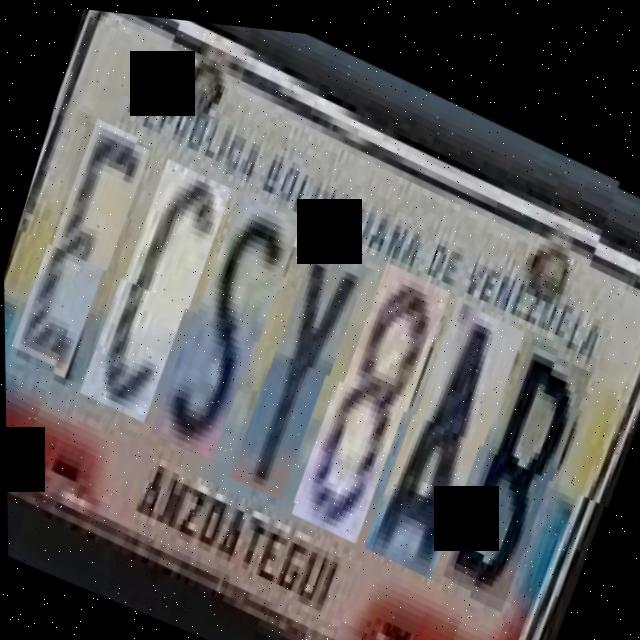8: (295, 238, 456, 545)
A: (368, 277, 530, 579)
B: (445, 309, 599, 602)
C: (83, 143, 237, 430)
E: (11, 112, 155, 389)
S: (154, 175, 307, 467)
Y: (233, 223, 376, 505)
